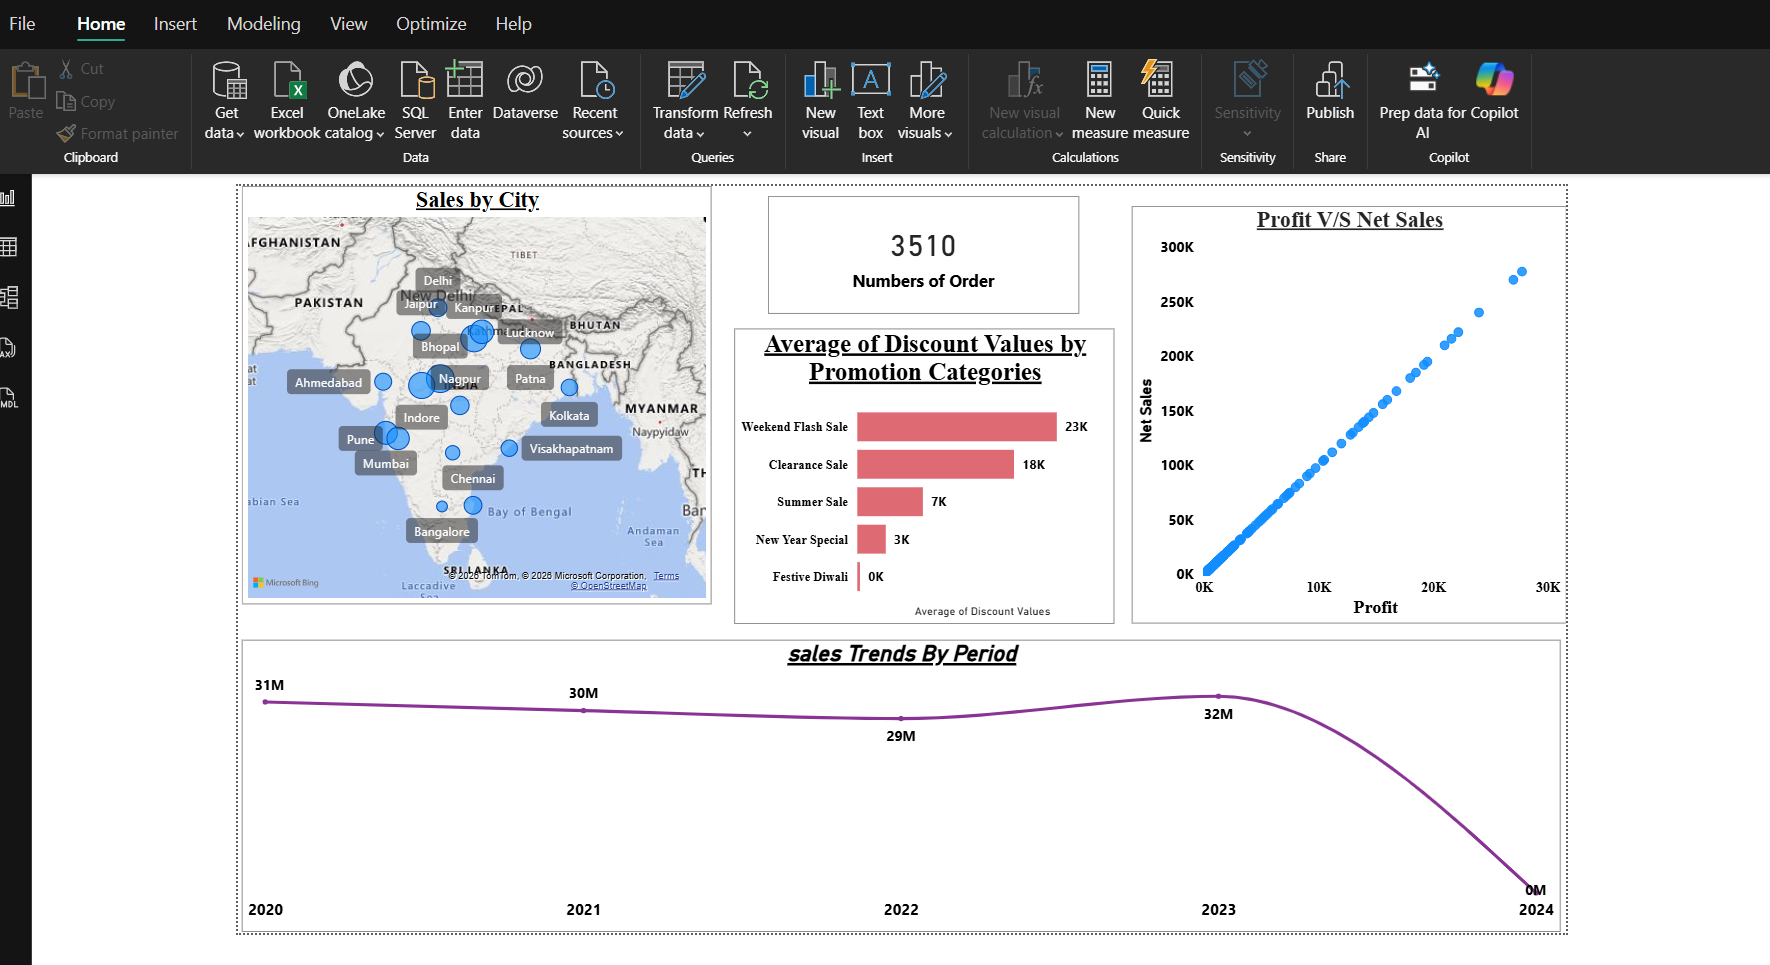

Layout of this report page (visuals, bound fields, positions):
{"tool":"powerbi","page":{"name":"overview","canvas":[1280,720],"ordinal":1},"visuals":[{"type":"lineChart","title":"sales Trends By Period","fields":{"Y":["Sum(Fact Table.Net Sales)"],"Category":["Fact Table.Date (dd/mm/yyyy).Variation.Date Hierarchy.Year"]},"box":[4.2,437.5,1270.8,281.9],"z":0},{"type":"scatterChart","title":"Profit  V/S Net Sales","fields":{"Y":["Fact Table.Net Sales"],"X":["Fact Table.Profit "]},"box":[861.1,19.4,419.4,402.8],"z":1000},{"type":"barChart","title":"Average of Discount Values by Promotion Categories","fields":{"Y":["Avg(Fact Table.Discount Values)"],"Category":["Dim Promotion.Promotion Name"]},"box":[477.8,137.5,366.7,284.7],"z":2000},{"type":"map","title":" Sales by City","fields":{"Category":["Dim Customers.City"],"Size":["Sum(Fact Table.Net Sales)"]},"box":[4,0,453,403],"z":3000},{"type":"card","fields":{"Values":["Count(Fact Table.Order ID)"]},"box":[511.1,9.7,300,113.9],"z":4000}]}

Visuals, with their boxes on the page's 1280x720 design canvas (x1, y1, x2, y2). These are canvas units, not pixel positions in the 1770x965 screenshot, which may show the page scaled, cropped or inside an application window:
"sales Trends By Period" lineChart: [4,438,1275,719]
"Profit  V/S Net Sales" scatterChart: [861,19,1280,422]
"Average of Discount Values by Promotion Categories" barChart: [478,138,844,422]
" Sales by City" map: [4,0,457,403]
card - Count(Fact Table.Order ID): [511,10,811,124]
